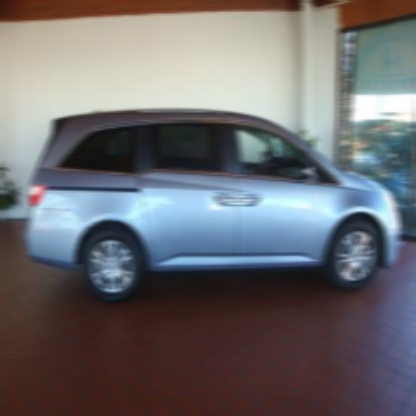Vehicle: (25, 107, 400, 306)
